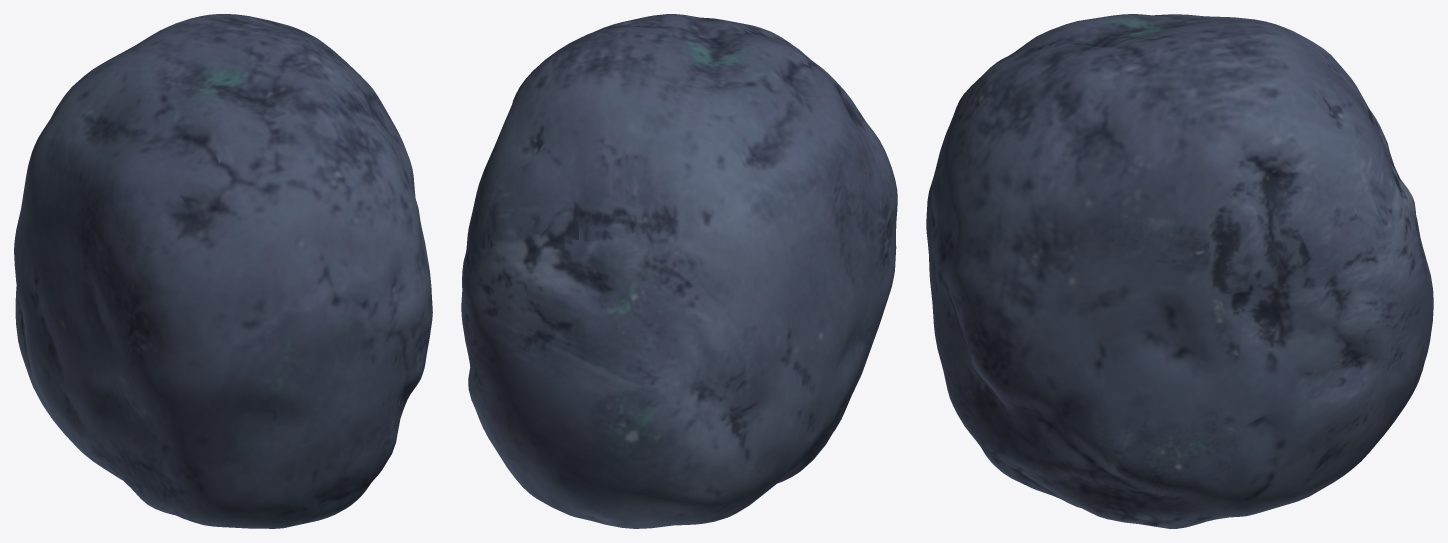
The model's file is Victor_Wheel.glb.
3 renders of one model, left to right at view 1: azimuth 30°, elevation 25°; view 2: azimuth 150°, elevation 25°; view 3: azimuth 270°, elevation 25°, orthographic. The views are drawn at different scales.
Visible parts, largest first — view 1: Victor_Wheel; view 2: Victor_Wheel; view 3: Victor_Wheel.
Part boxes in pixels (<box>): Victor_Wheel: <box>14,14,432,528</box>; Victor_Wheel: <box>461,14,897,528</box>; Victor_Wheel: <box>926,14,1433,528</box>.
Size of the model in its own units: 0.5577 by 0.7989 by 0.7683.
1 material, 1 textured.
